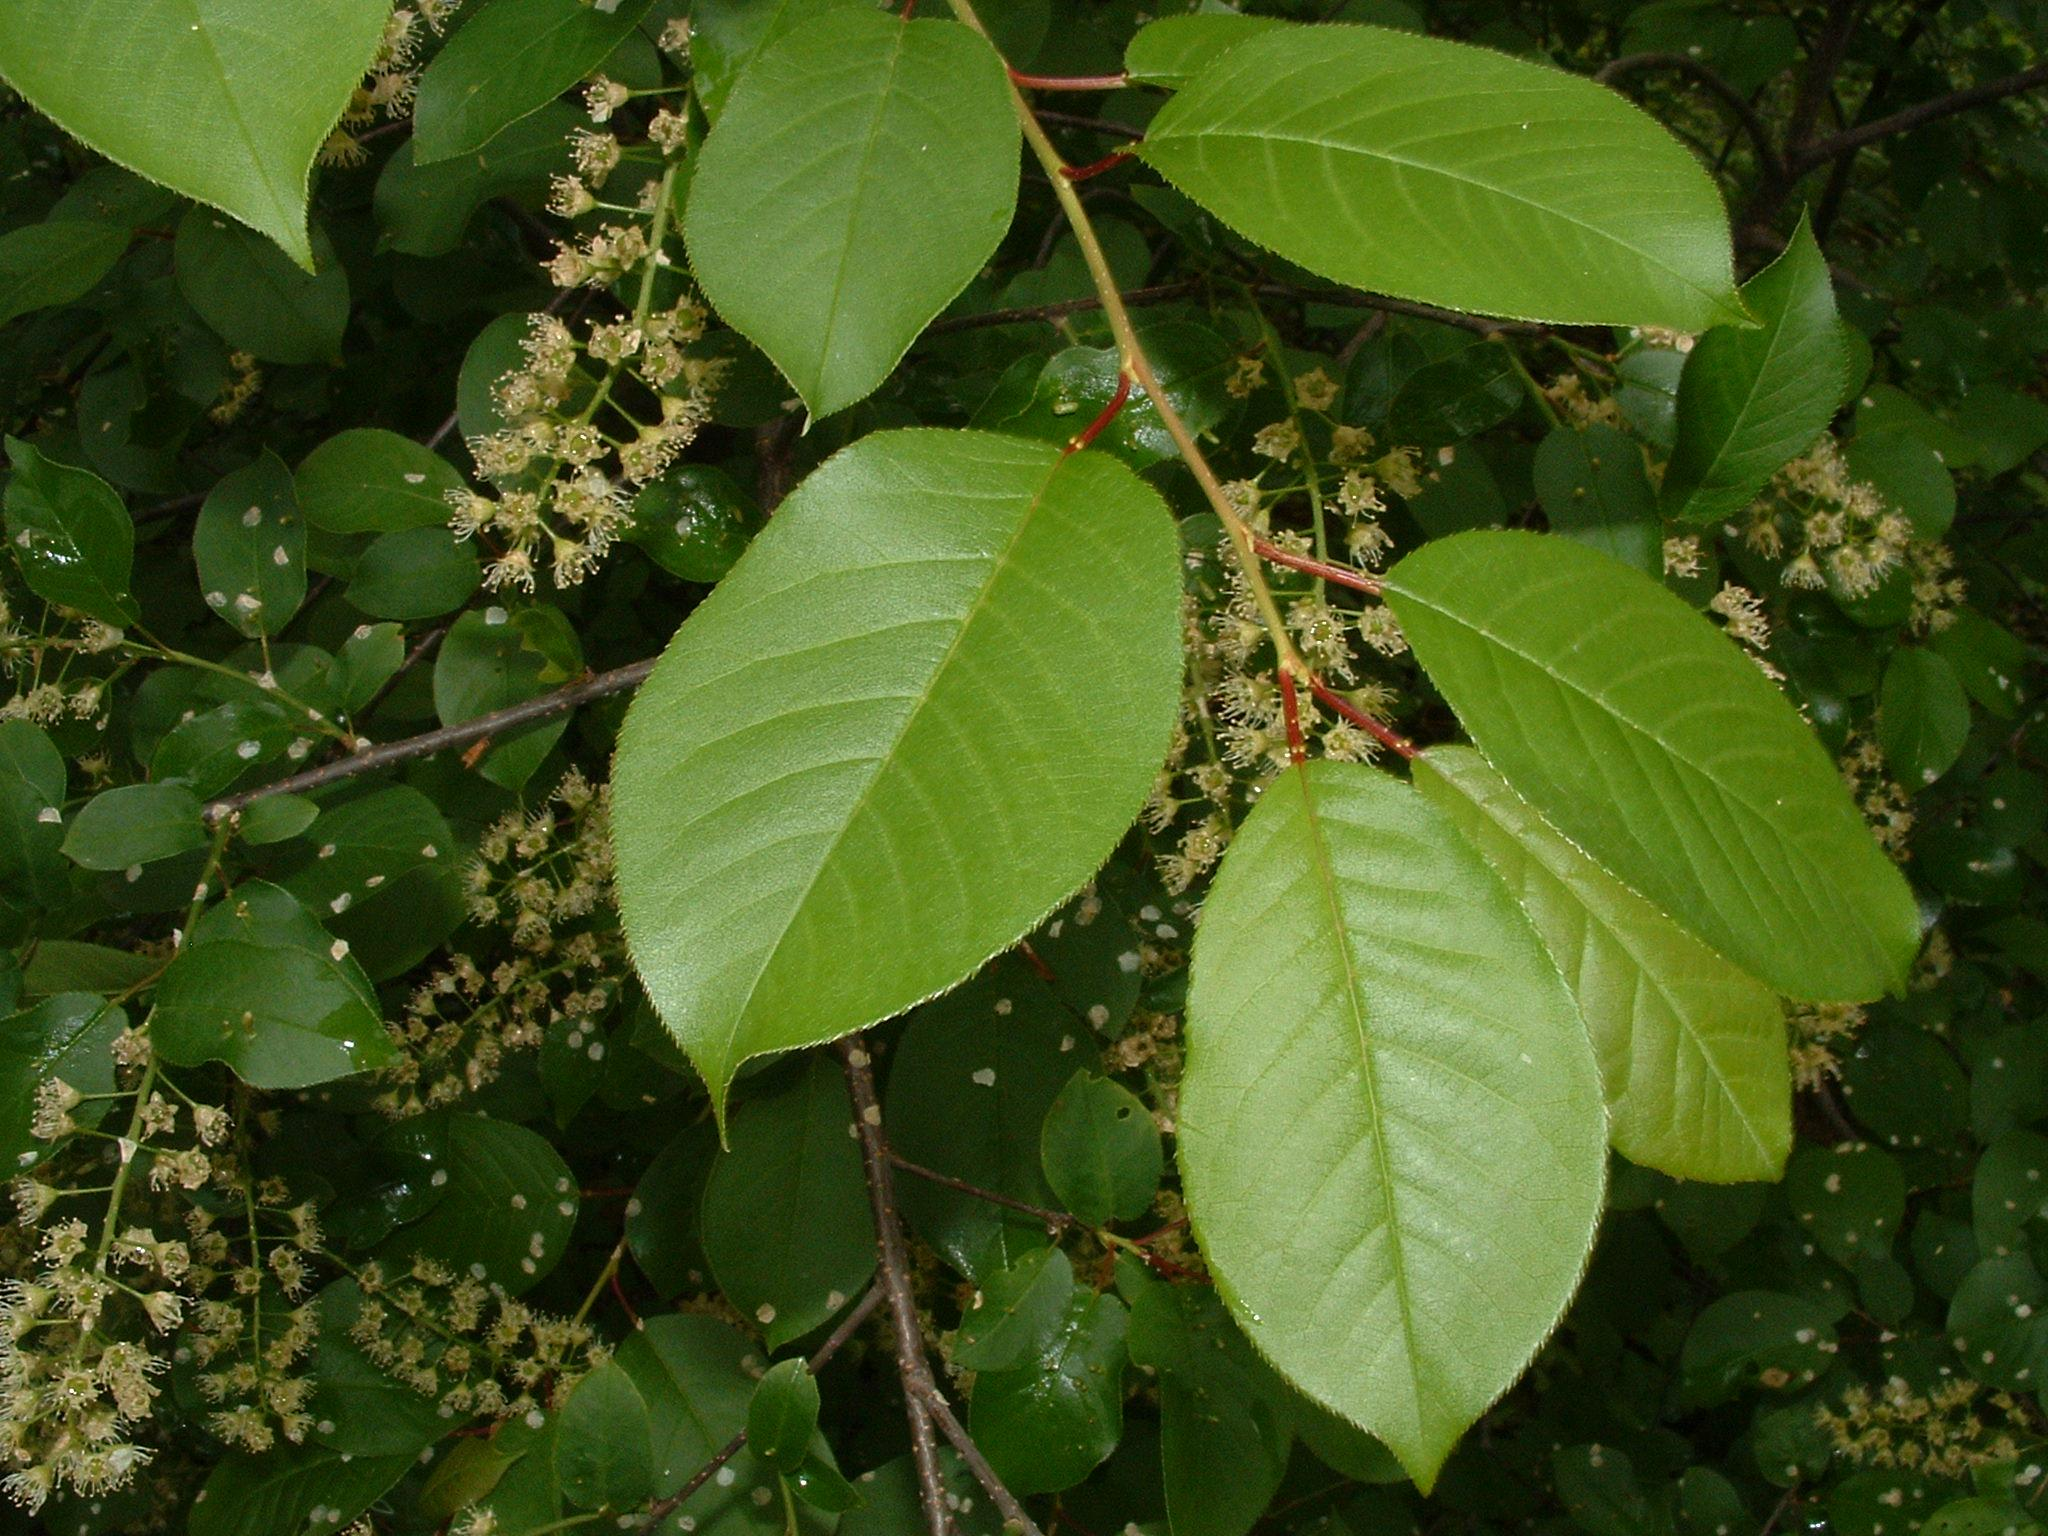Cherry leaf: (584, 428, 1214, 1141), (1159, 744, 1609, 1473), (1382, 499, 1951, 1036), (1124, 31, 1800, 363), (681, 3, 1055, 457)
